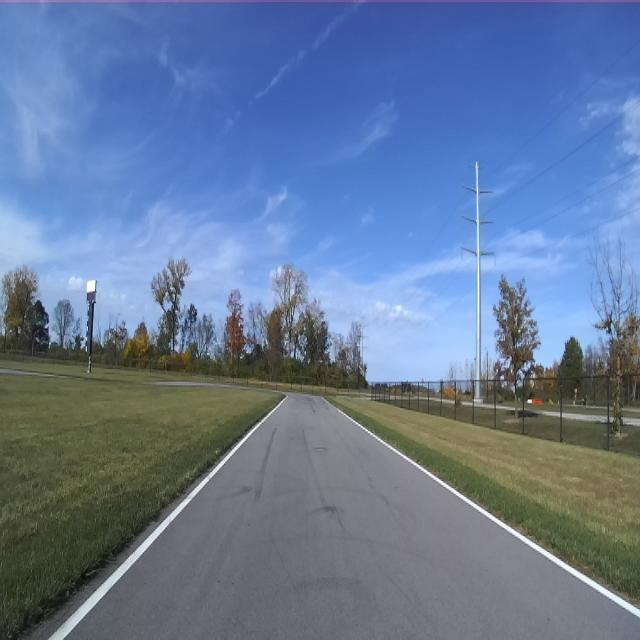white-line: (326, 401, 640, 618), (50, 396, 287, 639)
